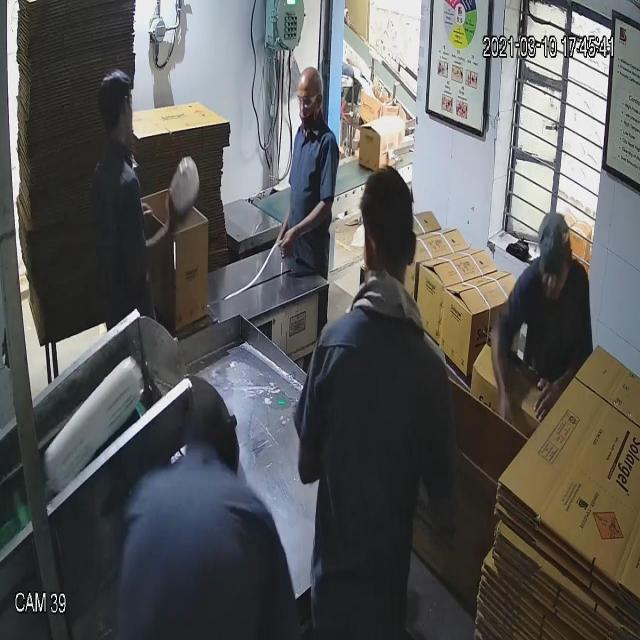No_Gloves: (36, 70, 550, 390)
